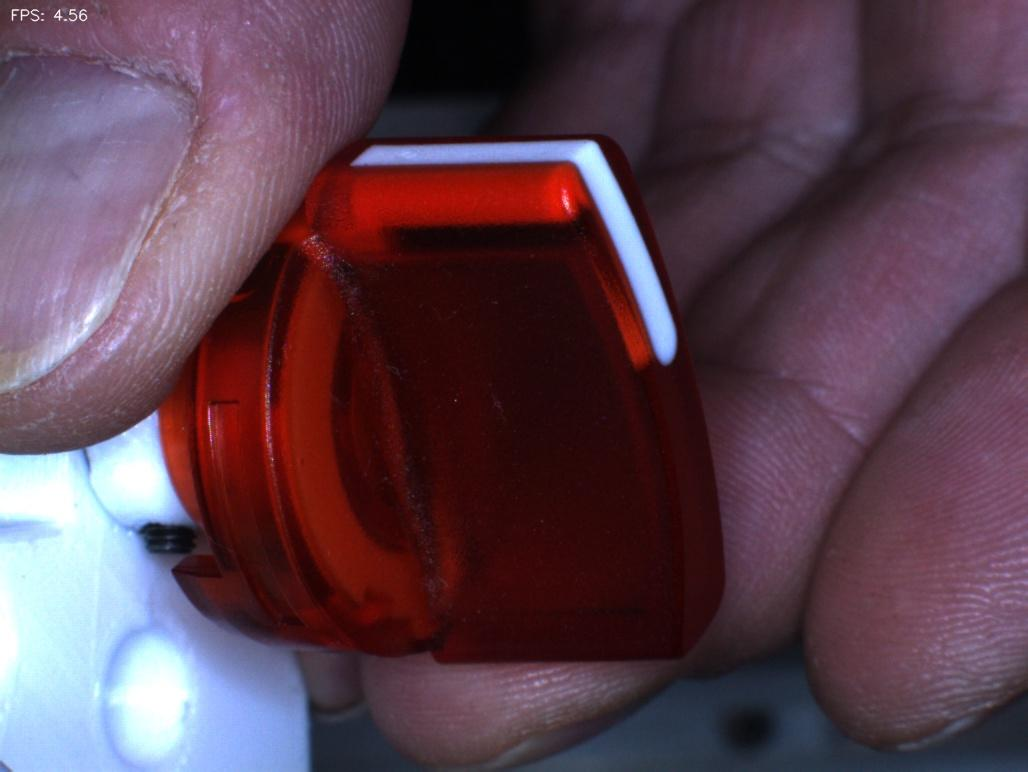Givrage: (458, 354, 536, 462)
